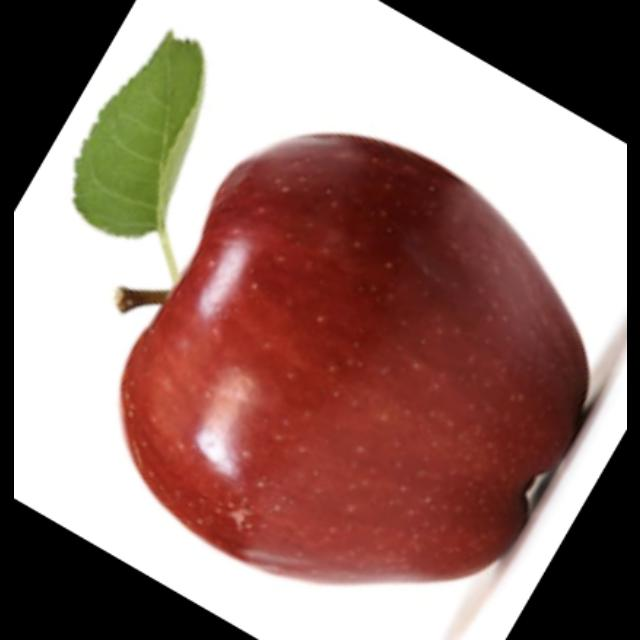Apel Segar: (107, 121, 603, 595)
